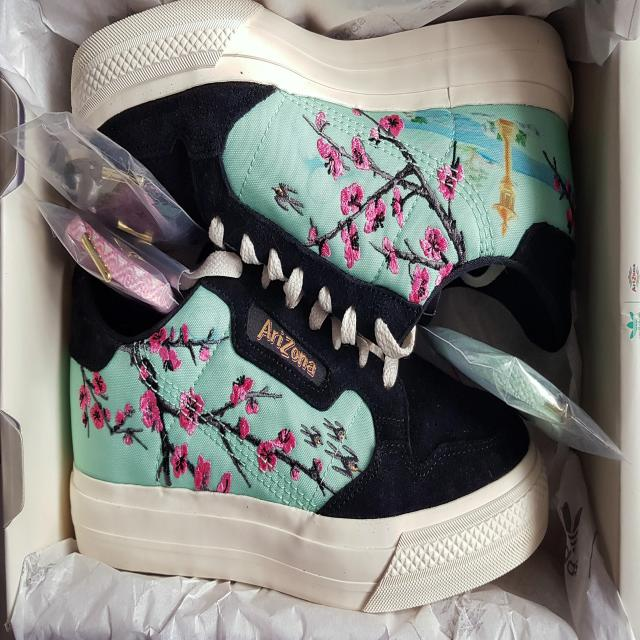shoe: (54, 262, 571, 614), (57, 4, 626, 304)
